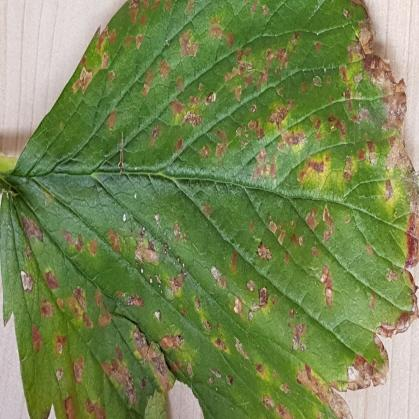Angular Leafspot: (0, 0, 418, 418)
